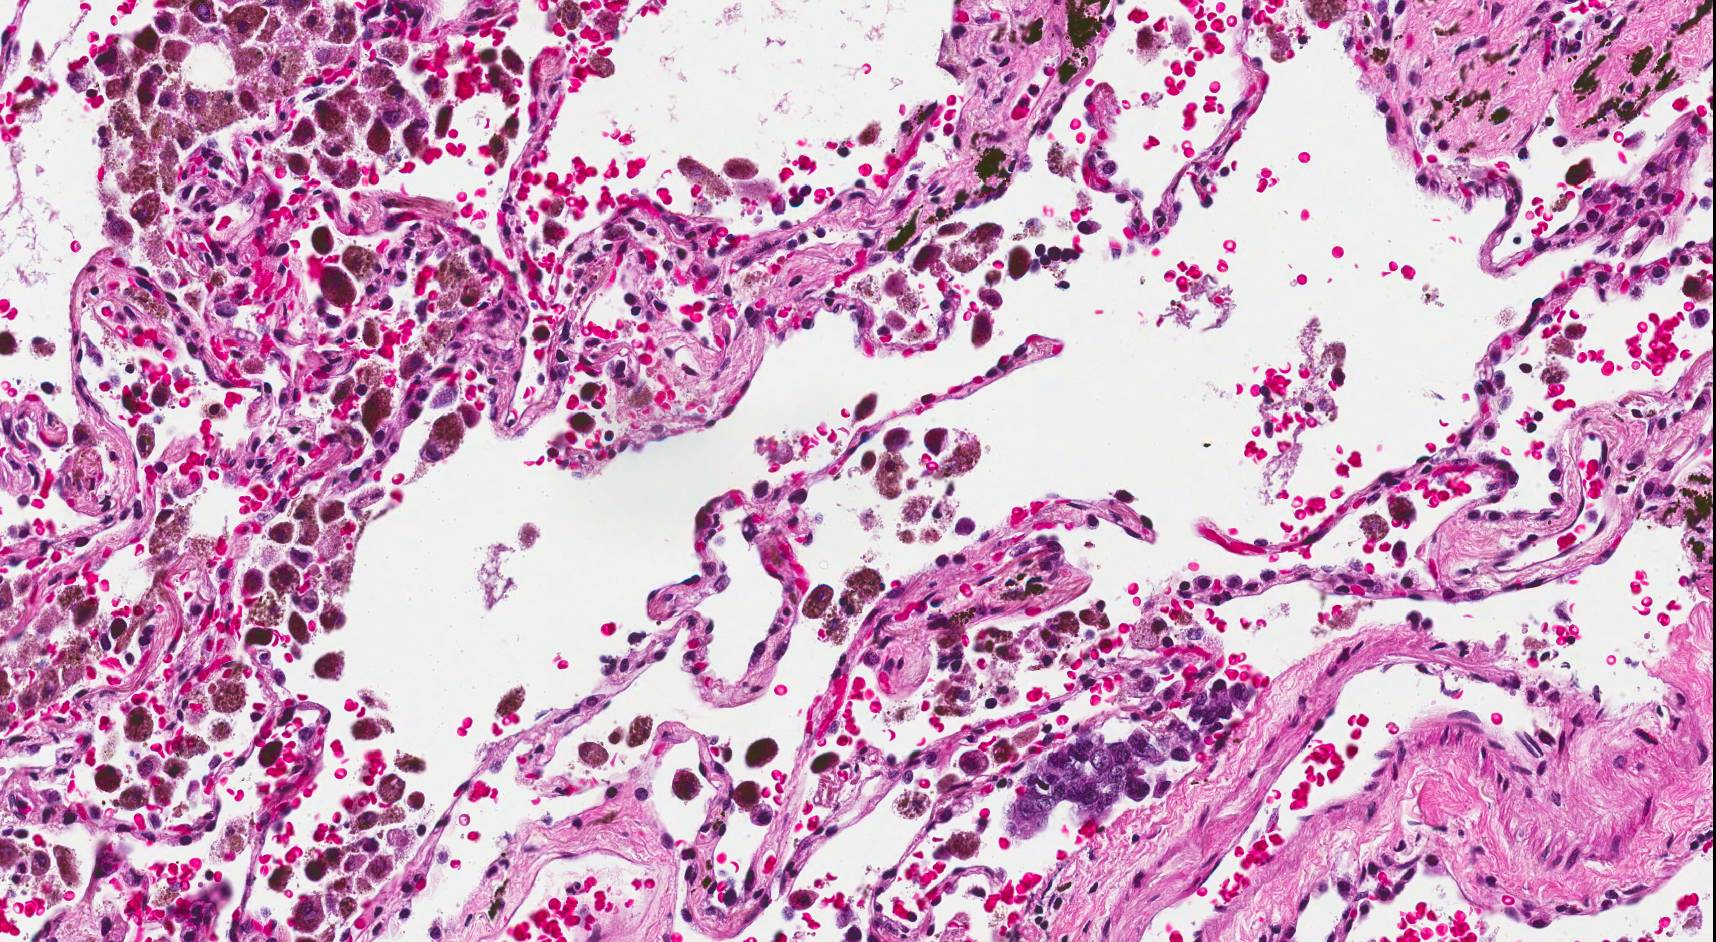stas: (1002, 677, 1256, 840)
